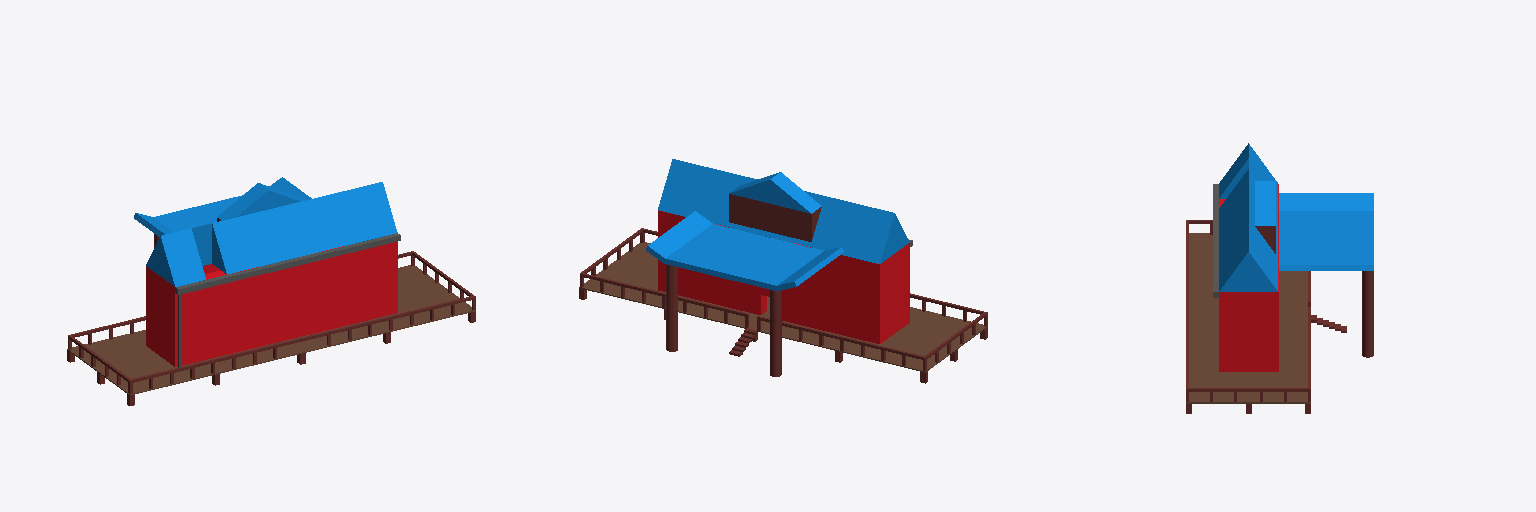
3 views of the same model, side by side, from view 1: azimuth 30°, elevation 25°; view 2: azimuth 150°, elevation 25°; view 3: azimuth 270°, elevation 25° (orthographic).
Visible parts, largest first — view 1: Cube.078, Cylinder.003, Cube.009, Cylinder, Cube.069, Cube.063, Cylinder.006_Cylinder.007, Cube.065, Cube.068, Cylinder.004, Cube.066; view 2: Cube.009, Cube.066, Cube.068, Cylinder.003, Cube.080, Cube.075_Cube.007, Cylinder, Cylinder.006_Cylinder.007, Cube.065, Cube.077, Cylinder.004, Cylinder.005_Cylinder.006 (+4 smaller); view 3: Cube.009, Cube.068, Cylinder.003, Cube.079, Cube.076, Cylinder, Cylinder.001, Cube.080, Cube.078, Cylinder.006_Cylinder.007, Cube.069, Cube.077.
Boxes of the visible parts, box(x1,y1,x2,y2) form: Cube.078: box(169, 236, 397, 366); Cylinder.003: box(212, 182, 397, 274); Cube.009: box(67, 265, 475, 395); Cylinder: box(146, 228, 205, 286); Cube.069: box(175, 233, 400, 294); Cube.063: box(128, 296, 475, 382); Cylinder.006_Cylinder.007: box(217, 183, 304, 220); Cube.065: box(152, 271, 168, 361); Cube.068: box(154, 195, 242, 231); Cylinder.004: box(192, 223, 211, 265); Cube.066: box(146, 264, 220, 349); Cube.009: box(579, 242, 987, 372); Cube.066: box(782, 243, 885, 343); Cube.068: box(664, 224, 823, 290); Cylinder.003: box(658, 159, 842, 250); Cube.080: box(658, 210, 766, 314); Cube.075_Cube.007: box(729, 194, 821, 241); Cylinder: box(849, 206, 909, 263); Cylinder.006_Cylinder.007: box(729, 172, 821, 213); Cube.065: box(886, 247, 903, 339); Cube.077: box(646, 211, 712, 262); Cylinder.004: box(829, 200, 863, 256); Cylinder.005_Cylinder.006: box(770, 290, 781, 376); Cube.009: box(1186, 233, 1310, 403); Cube.068: box(1279, 211, 1373, 264); Cylinder.003: box(1219, 169, 1277, 291); Cube.079: box(1231, 292, 1266, 371); Cube.076: box(1279, 193, 1373, 210); Cylinder: box(1219, 143, 1277, 198); Cylinder.001: box(1362, 271, 1373, 357); Cube.080: box(1267, 242, 1278, 371); Cube.078: box(1219, 199, 1230, 371); Cylinder.006_Cylinder.007: box(1255, 181, 1275, 225); Cube.069: box(1213, 184, 1218, 297); Cube.077: box(1279, 265, 1373, 270).
Size of the model in its own units: 67 by 27.7 by 31.5.
Materials: 86 (5 with a texture image).